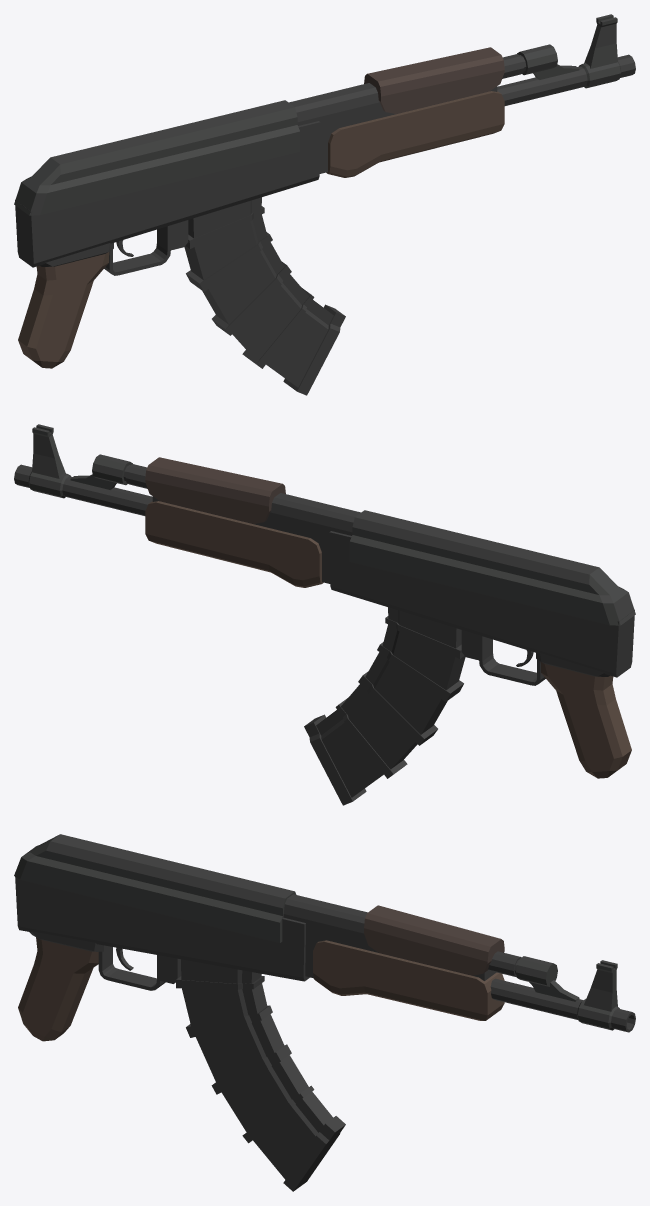
File: AssaultRifle_3.glb
3 views of the same model, one above another, from view 1: azimuth 30°, elevation 25°; view 2: azimuth 150°, elevation 25°; view 3: azimuth 330°, elevation 25° (orthographic).
Visible parts, largest first — view 1: AssaultRifle_3; view 2: AssaultRifle_3; view 3: AssaultRifle_3.
Boxes of the visible parts, <box> form: AssaultRifle_3: <box>14,14,635,395</box>; AssaultRifle_3: <box>14,424,635,805</box>; AssaultRifle_3: <box>14,834,635,1191</box>.
Size of the model in its own units: 3.43 by 1.6 by 0.196.
